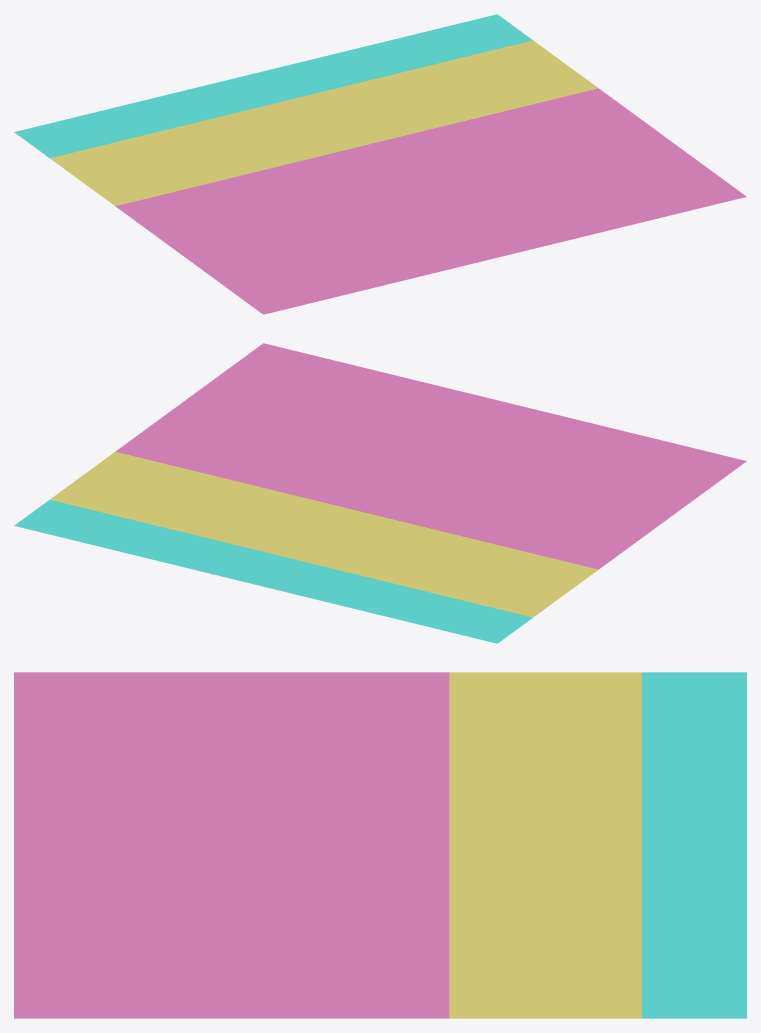
Rendered from VoidWallEdgeV2.fbx.
3 renders of one model, top to bottom at view 1: azimuth 30°, elevation 25°; view 2: azimuth 150°, elevation 25°; view 3: azimuth 270°, elevation 25°, orthographic. The views are drawn at different scales.
Parts seen in each view (by area): view 1: VoidWallEdgeV1; view 2: VoidWallEdgeV1; view 3: VoidWallEdgeV1.
Part boxes in pixels (box(x1,y1,x2,y2)): VoidWallEdgeV1: box(14, 14, 746, 314); VoidWallEdgeV1: box(14, 343, 746, 643); VoidWallEdgeV1: box(14, 672, 746, 1018).
Bounding box in the file's own units: 996 × 0.000145 × 890.
